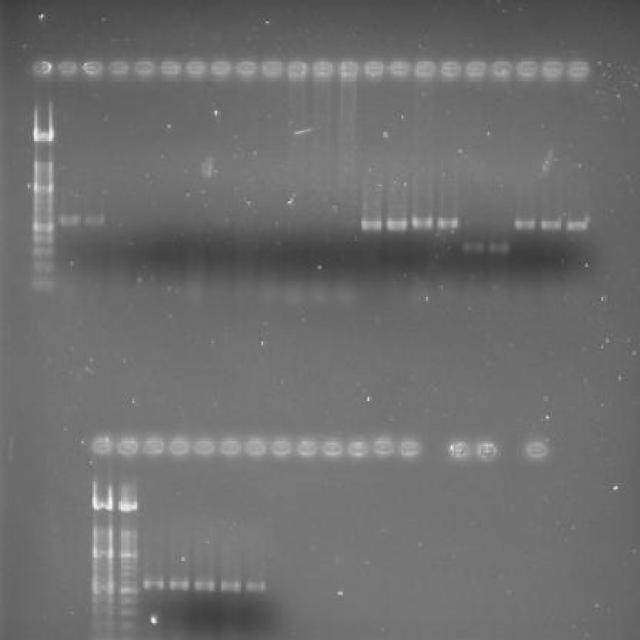B: (192, 574, 215, 594), (513, 214, 538, 232), (565, 214, 590, 232), (166, 574, 191, 592), (384, 215, 410, 232), (410, 213, 433, 232), (244, 576, 267, 595), (58, 212, 82, 230), (82, 212, 106, 230), (488, 238, 512, 256), (142, 574, 166, 592), (358, 216, 384, 232), (538, 216, 564, 232), (460, 238, 486, 254), (217, 578, 243, 594), (435, 216, 460, 230)
L: (27, 53, 595, 87), (88, 430, 558, 464)
M: (27, 94, 58, 297), (88, 467, 117, 640), (114, 467, 142, 640)
P: (116, 494, 138, 514), (32, 125, 54, 144), (91, 580, 114, 596), (30, 260, 56, 274), (30, 244, 56, 258), (91, 524, 112, 541), (32, 276, 54, 292), (90, 498, 113, 512), (117, 582, 140, 596), (116, 527, 138, 541), (90, 546, 113, 559), (32, 220, 54, 233), (117, 548, 140, 560), (32, 204, 54, 216), (118, 619, 138, 632), (33, 233, 56, 244), (32, 182, 54, 193), (118, 607, 140, 618), (33, 158, 53, 170), (117, 596, 140, 606), (90, 606, 113, 616), (91, 596, 114, 606), (32, 196, 54, 204)
Pc: (412, 57, 437, 80), (310, 58, 336, 80), (540, 58, 566, 80), (566, 59, 592, 81), (114, 436, 140, 458), (490, 58, 513, 82), (30, 58, 54, 80), (142, 436, 166, 458), (448, 439, 472, 461), (474, 439, 498, 461), (258, 58, 284, 78), (91, 434, 114, 456), (243, 437, 268, 457), (338, 58, 360, 80), (440, 59, 462, 81), (388, 59, 412, 79), (464, 58, 488, 78), (80, 58, 103, 78), (184, 58, 207, 78), (192, 437, 215, 457), (270, 437, 293, 457), (132, 58, 156, 77), (56, 58, 78, 78), (210, 58, 232, 78), (286, 58, 308, 78), (364, 59, 386, 79), (516, 59, 538, 79), (168, 436, 190, 456), (218, 436, 240, 456), (296, 437, 318, 457), (322, 438, 344, 458), (526, 440, 548, 460), (106, 59, 128, 78), (346, 438, 368, 457), (398, 438, 420, 457), (157, 58, 180, 76), (373, 438, 395, 456), (235, 60, 258, 77)
